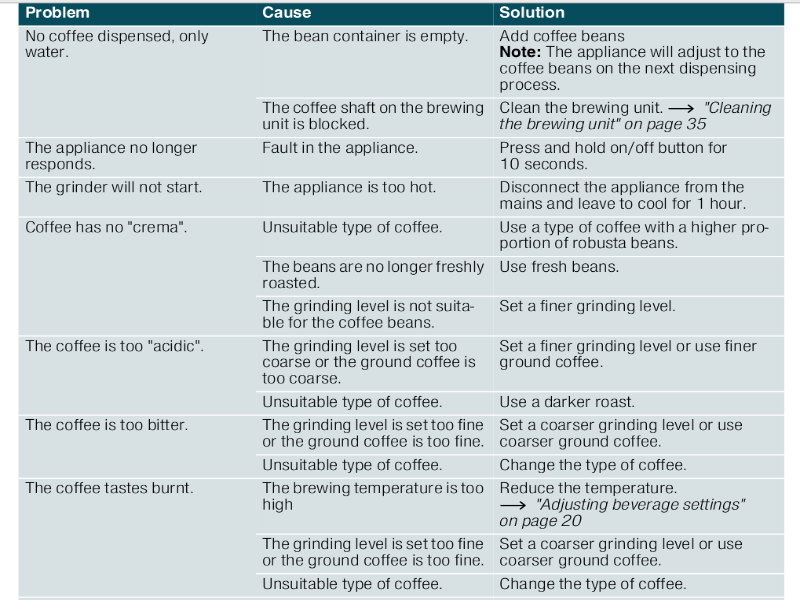borderless: (15, 2, 787, 600)
cell: (496, 27, 770, 94), (495, 478, 747, 530), (256, 338, 479, 391), (496, 100, 773, 132), (495, 338, 761, 370), (496, 180, 751, 213), (496, 221, 774, 251), (257, 297, 489, 332), (497, 417, 748, 449), (257, 481, 491, 515), (498, 537, 746, 569), (257, 536, 485, 570), (497, 139, 729, 172), (256, 417, 485, 450), (260, 100, 488, 132), (259, 259, 487, 291), (22, 138, 202, 172), (21, 27, 218, 58), (260, 26, 474, 49), (256, 392, 474, 410), (257, 574, 452, 593), (20, 338, 208, 357), (257, 219, 444, 238), (497, 576, 690, 594), (21, 180, 206, 198), (20, 219, 203, 237), (257, 179, 439, 197), (23, 417, 203, 435), (497, 457, 687, 474), (23, 481, 198, 499), (495, 299, 677, 316), (256, 456, 449, 472), (259, 140, 425, 158), (496, 258, 621, 278), (496, 394, 639, 411), (21, 5, 95, 20), (260, 5, 334, 20), (497, 5, 571, 20)
